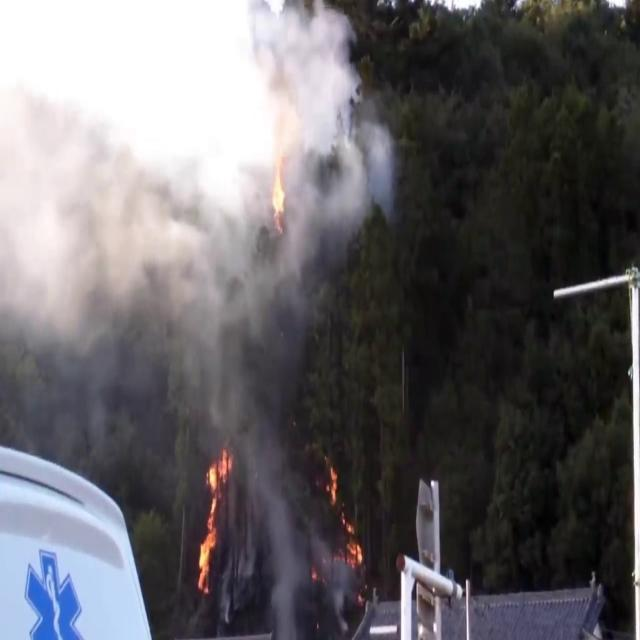Fire: (194, 441, 234, 596), (268, 148, 290, 232)
Smoke: (0, 7, 389, 485), (0, 48, 290, 494)
